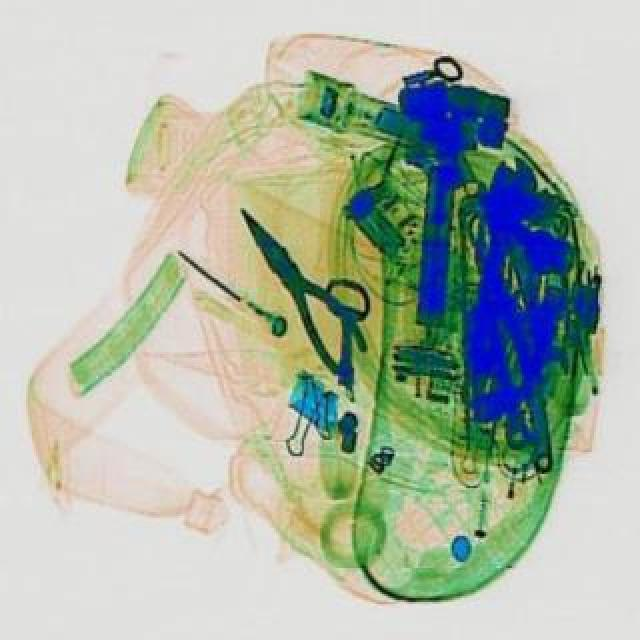scissors: (482, 152, 570, 474)
wrench: (216, 190, 376, 374)
